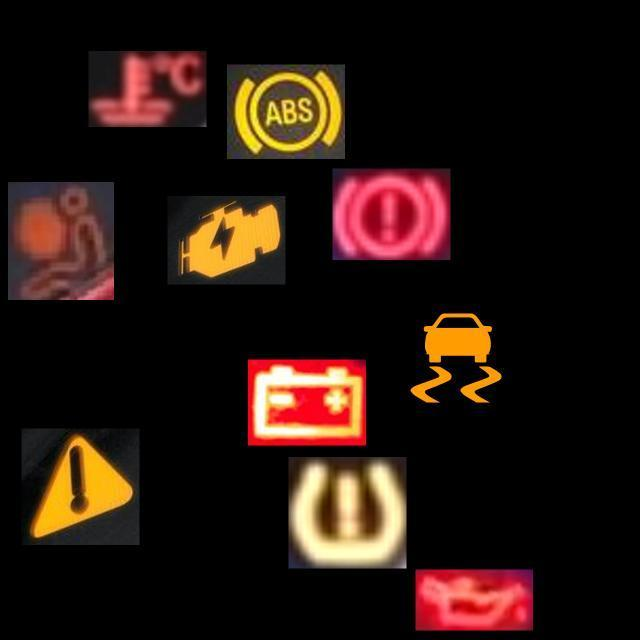Central Warning lamp: (22, 428, 140, 546)
Engine cooling system: (88, 51, 206, 127)
